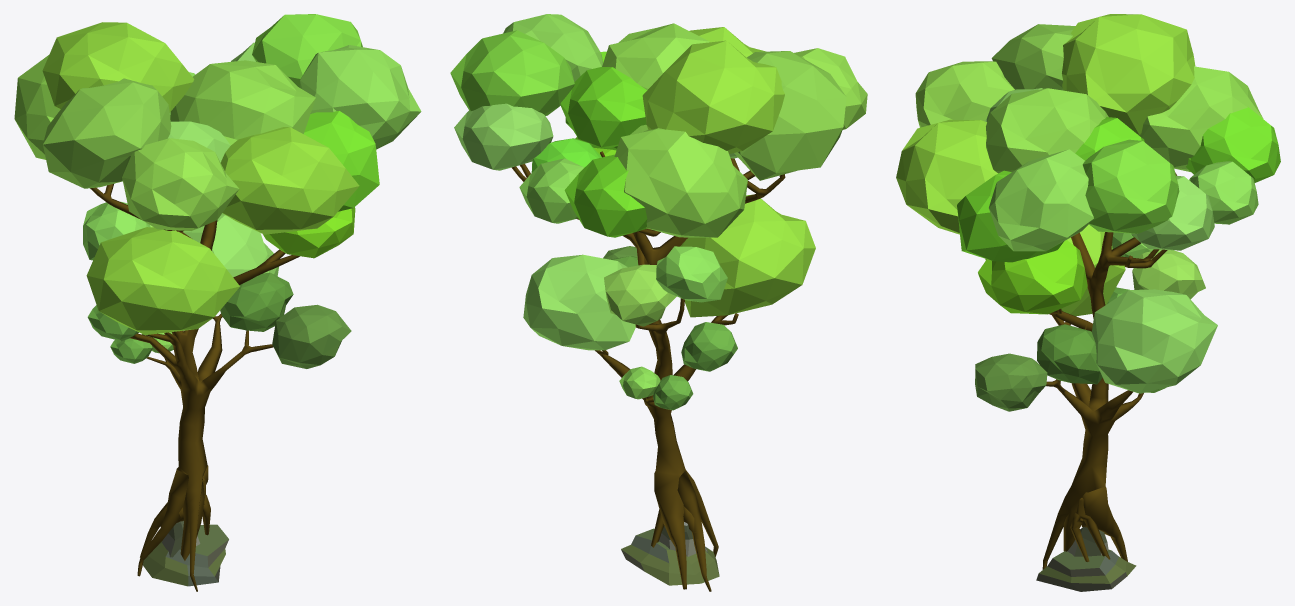
The model's file is E_Tree1.fbx.
3 renders of one model, left to right at view 1: azimuth 30°, elevation 25°; view 2: azimuth 150°, elevation 25°; view 3: azimuth 270°, elevation 25°, orthographic.
Parts seen in each view (by area): view 1: Tree01; view 2: Tree01; view 3: Tree01.
Part boxes in pixels (x1,y1,x2,y2): Tree01: (14, 14, 421, 591); Tree01: (450, 14, 867, 591); Tree01: (896, 14, 1280, 591).
Bounding box in the file's own units: 2523 × 3744 × 2409.
